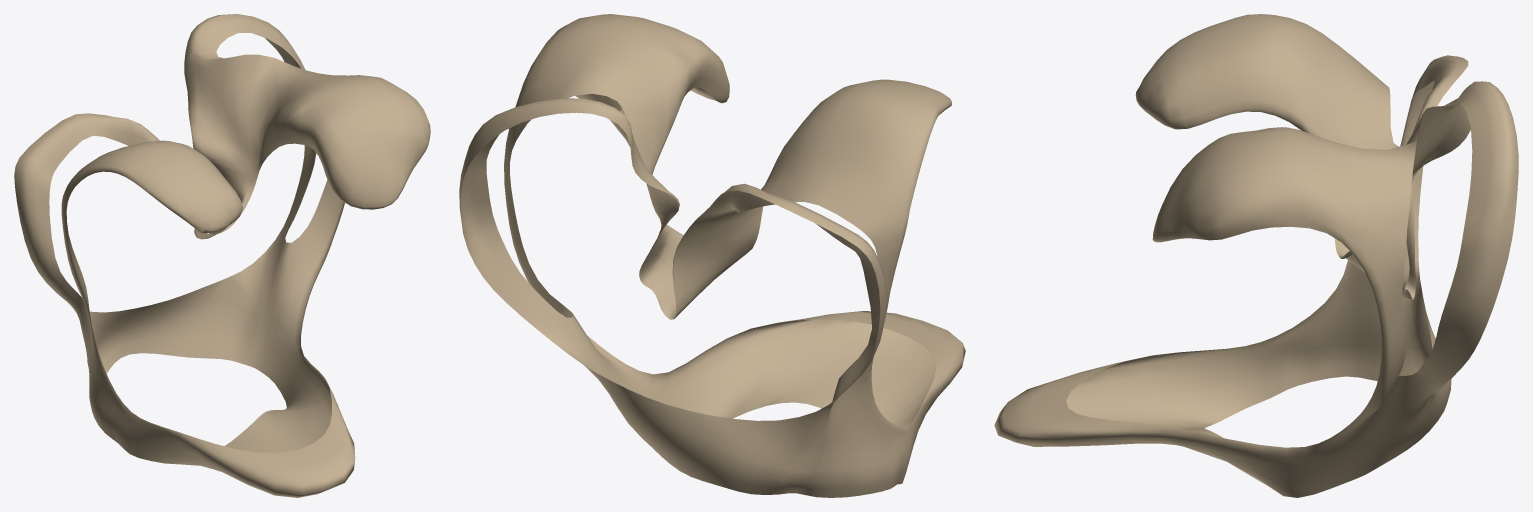
3 views of the same model, side by side, from view 1: azimuth 30°, elevation 25°; view 2: azimuth 150°, elevation 25°; view 3: azimuth 270°, elevation 25° (orthographic). The views are drawn at different scales.
Parts seen in each view (by area): view 1: 右侧膝关节囊; view 2: 右侧膝关节囊; view 3: 右侧膝关节囊.
Part boxes in pixels (x1,y1,x2,y2): 右侧膝关节囊: [14, 14, 430, 497]; 右侧膝关节囊: [459, 14, 965, 497]; 右侧膝关节囊: [994, 14, 1518, 497].
Size of the model in its own units: 0.116 by 0.1121 by 0.1266.
